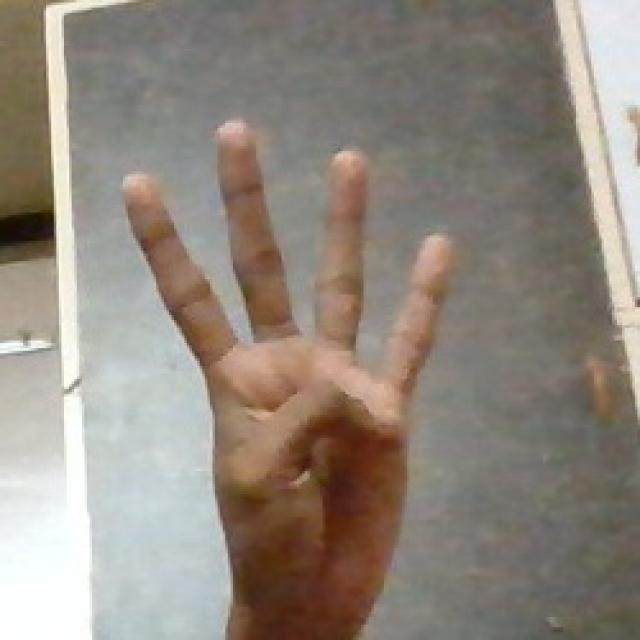Numeric-4: (128, 118, 454, 614)
